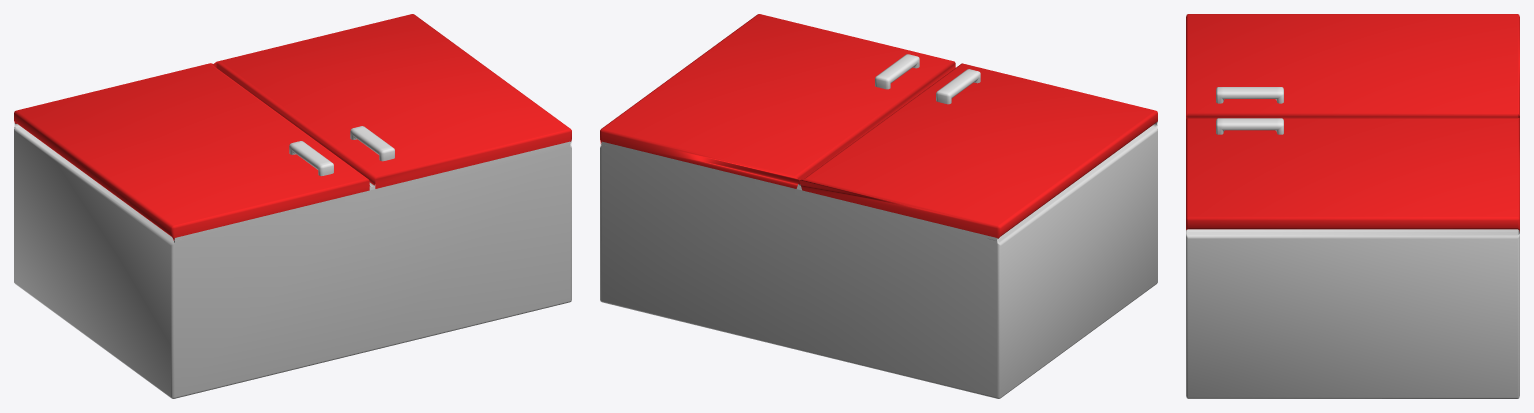
3 views of the same model, side by side, from view 1: azimuth 30°, elevation 25°; view 2: azimuth 150°, elevation 25°; view 3: azimuth 270°, elevation 25° (orthographic). The views are drawn at different scales.
Visible parts, largest first — view 1: Cube.002; view 2: Cube.002; view 3: Cube.002.
Part boxes in pixels (left/top/right/bottom): Cube.002: left=14, top=14, right=571, bottom=398; Cube.002: left=600, top=14, right=1157, bottom=398; Cube.002: left=1186, top=14, right=1519, bottom=398.
Size of the model in its own units: 80 by 35 by 55.
